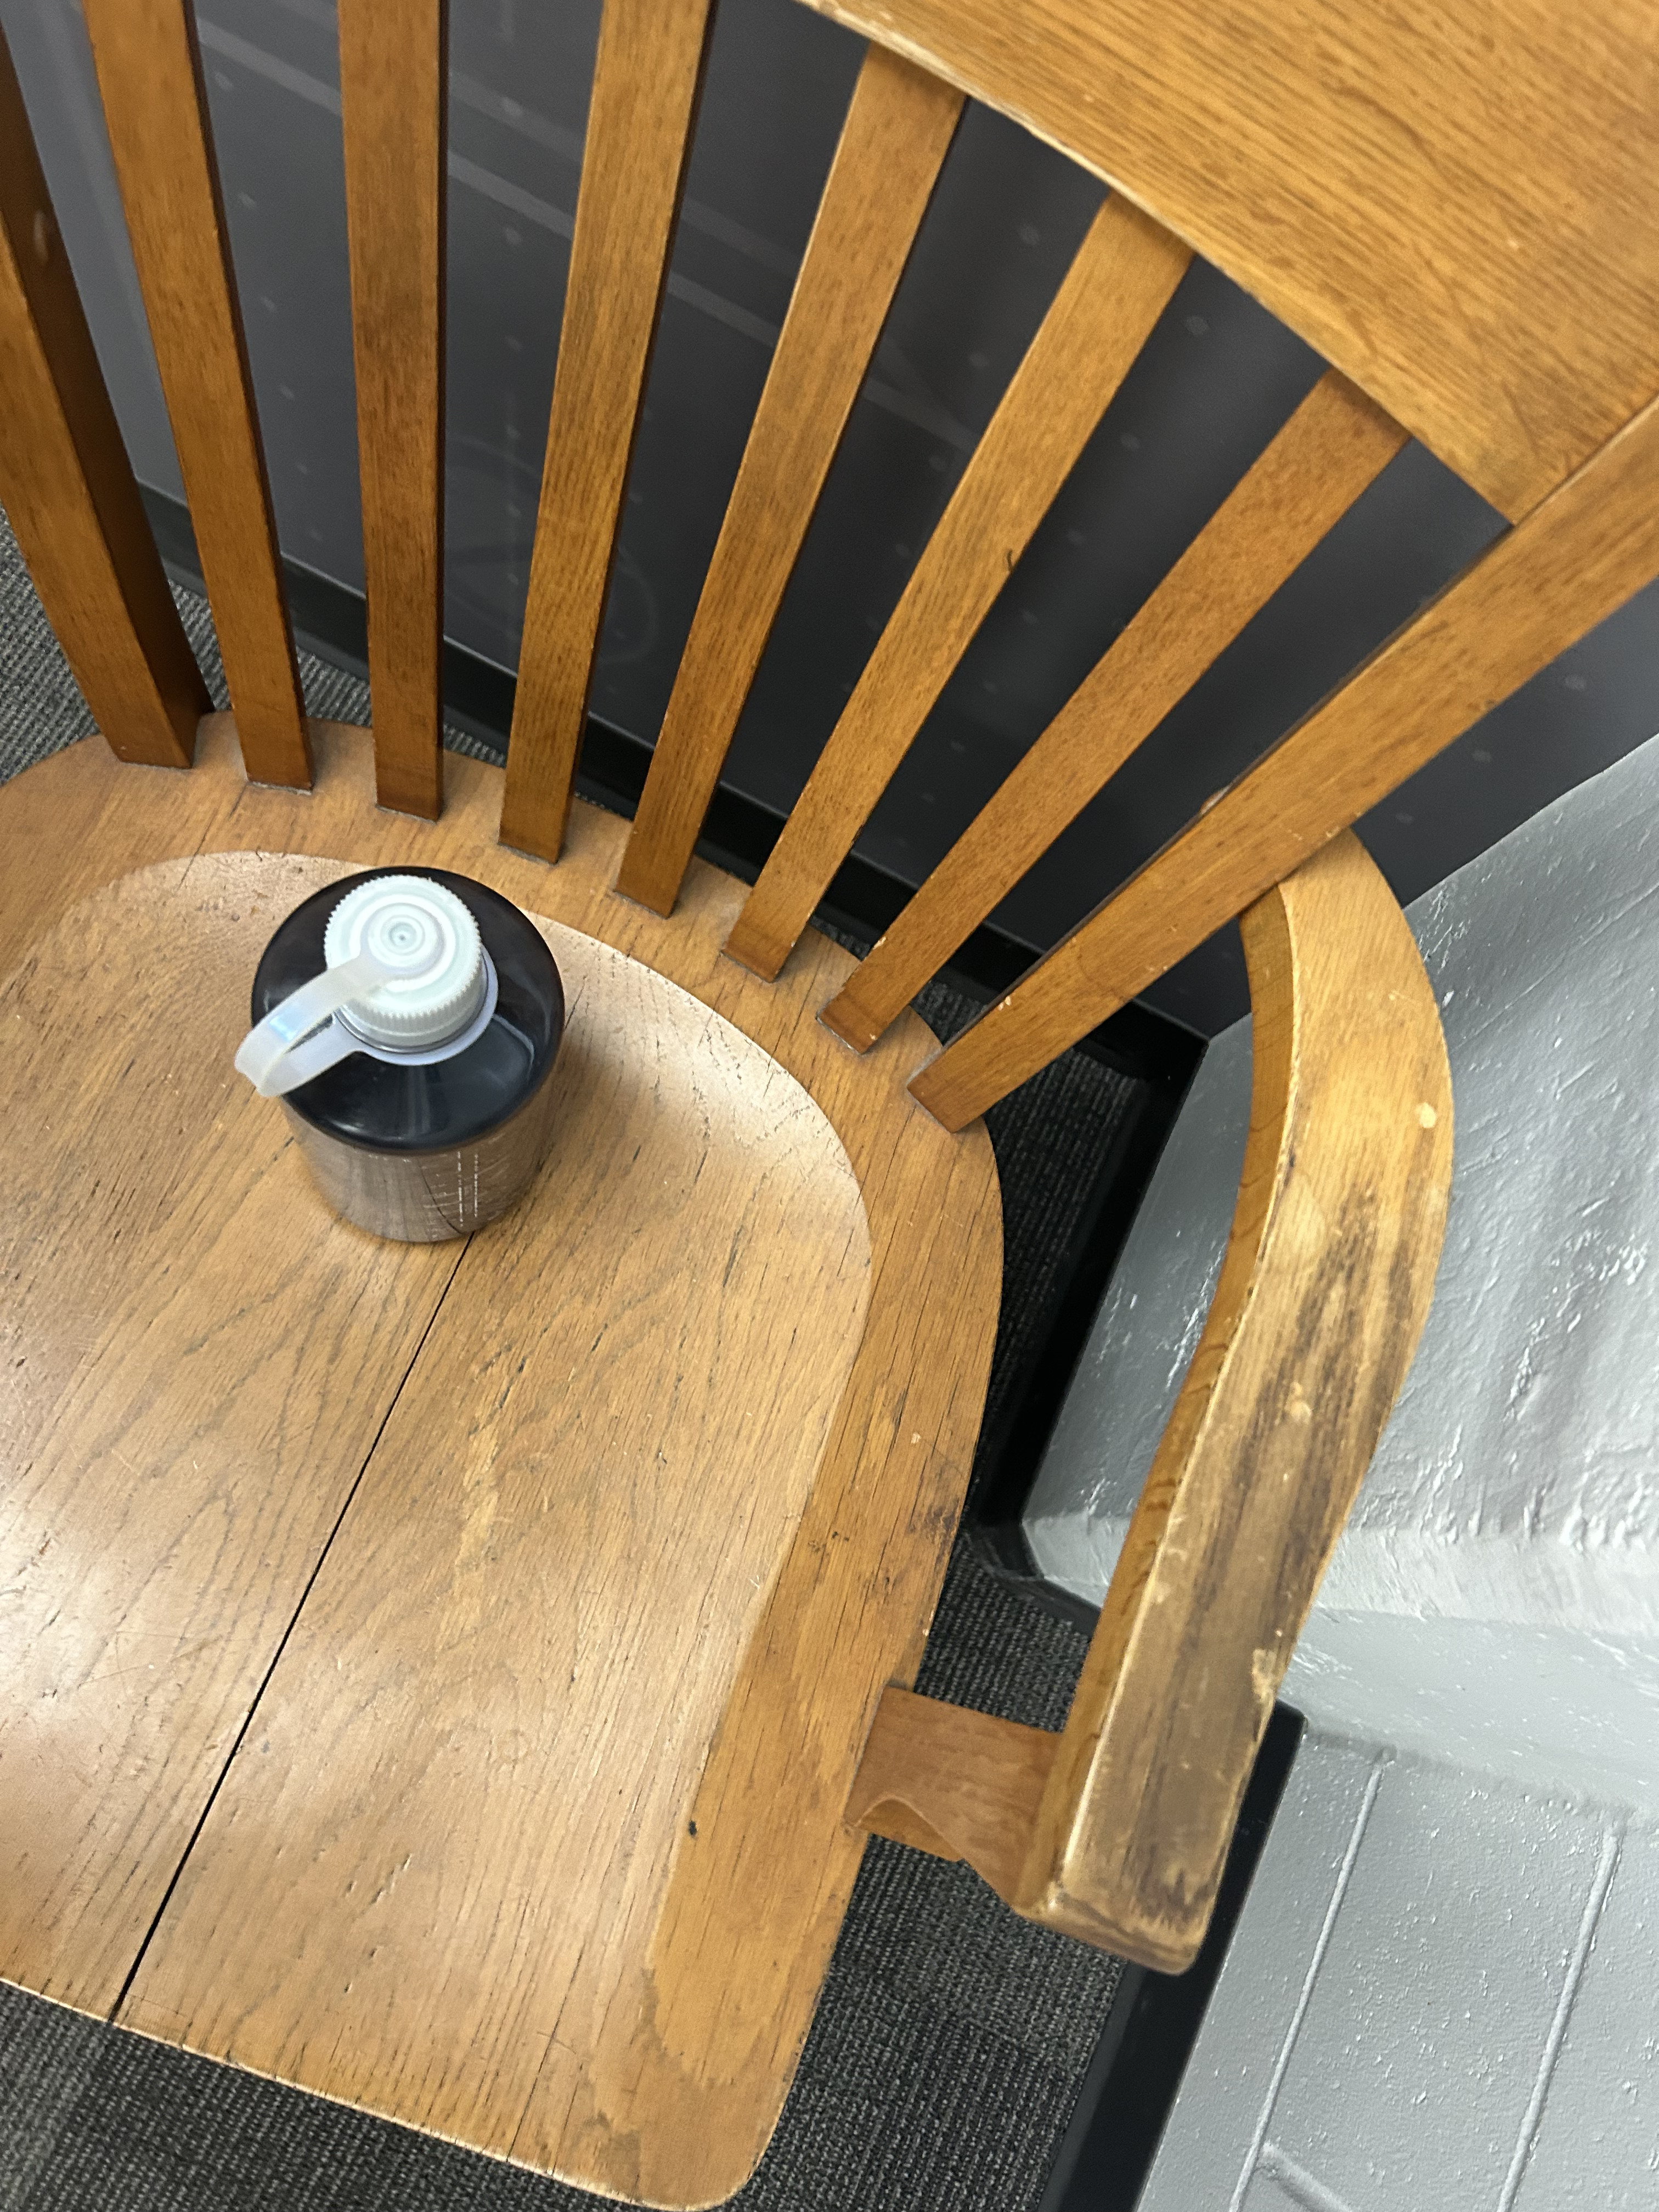bottle: (237, 845, 570, 1263)
